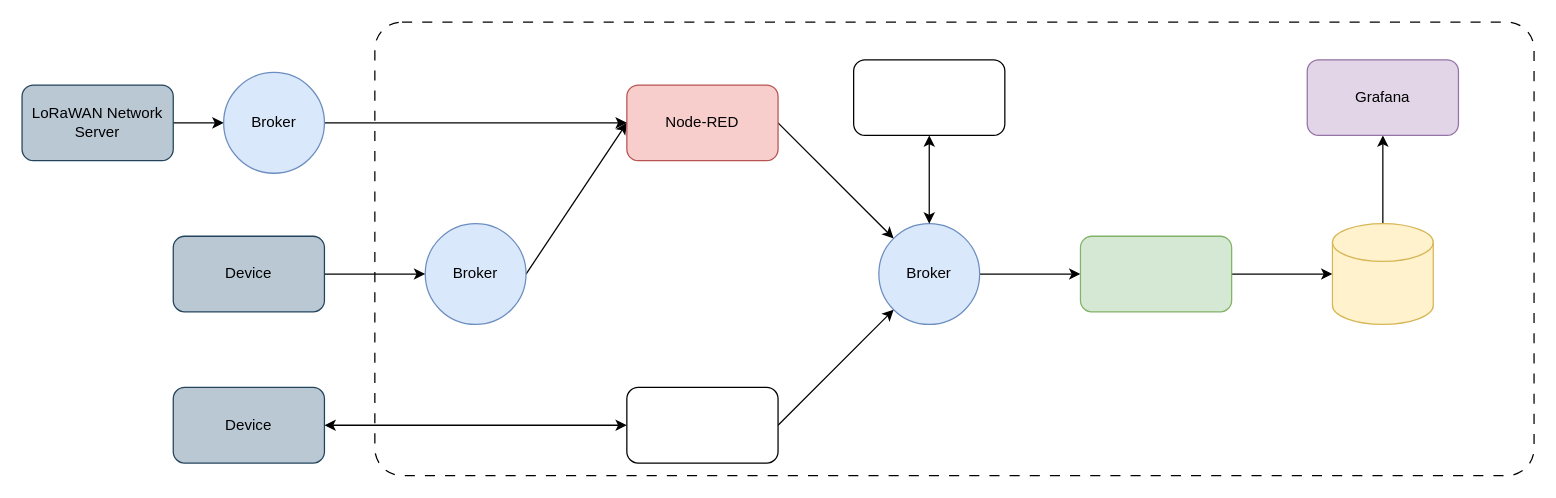
Image size: 1556x498. Some labels were removed from this diagram. The shapes that lost their labels are listed below. From the top down, each one's box as (x1, y1, x2, y2) in pixels, then its label:
(852, 59, 1005, 135): Rule-Engine (Node-RED)
(1079, 235, 1232, 312): Telegraf
(1331, 222, 1433, 324): InfluxDB
(626, 386, 778, 463): MODBUS/TCP Agent
